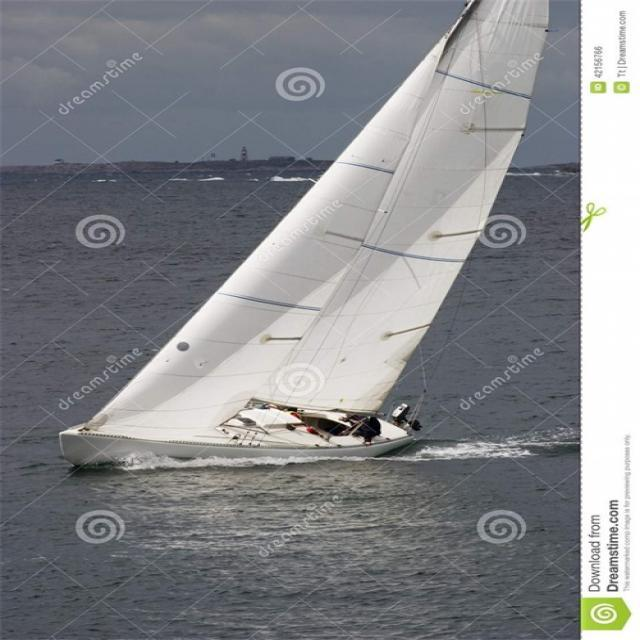Ship: (33, 4, 561, 481)
